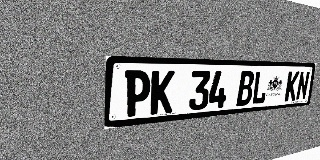3: (189, 71, 211, 111)
4: (208, 71, 229, 109)
B: (236, 71, 255, 106)
K: (150, 70, 175, 115), (284, 71, 300, 102)
L: (251, 71, 269, 105)
N: (295, 71, 310, 100)
P: (124, 70, 151, 117)
